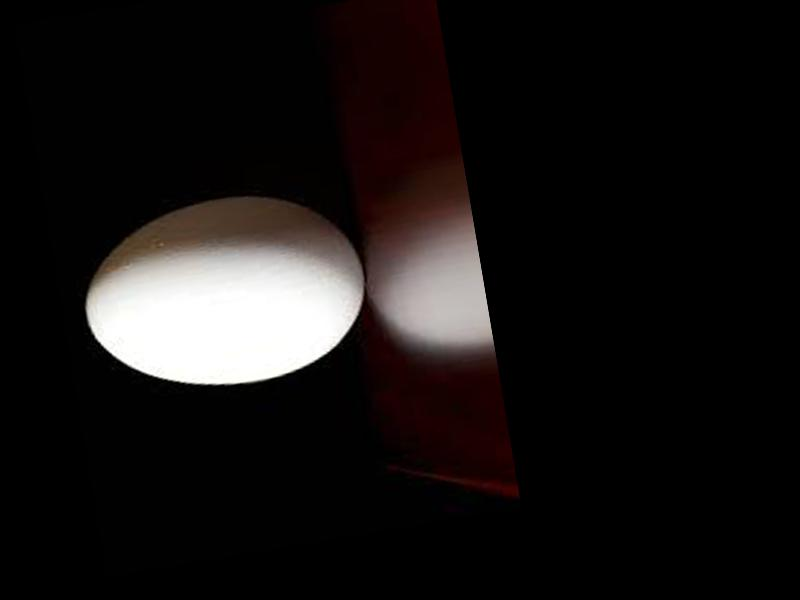Eggs: (71, 179, 378, 406)
